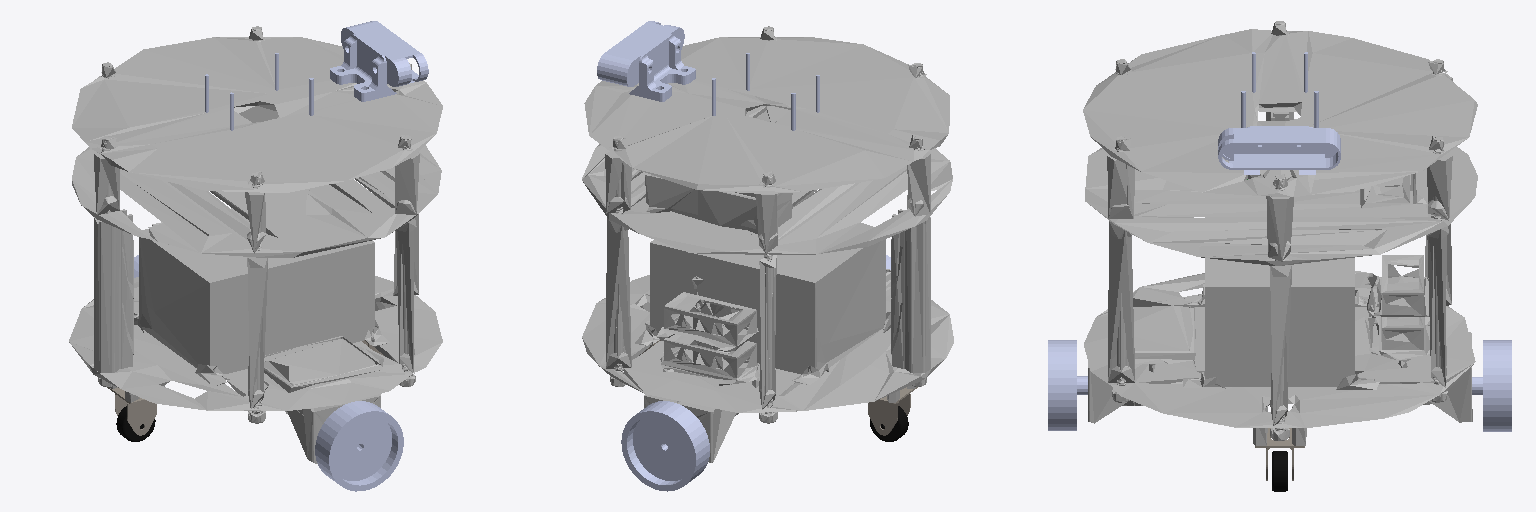
URDF robot description (amr_urdf_v3):
<!--Make simple geometric shapes instead of meshes in the collision segments.-->
<robot
  name="amr_urdf_v3">
  <link
    name="base_link">
    <inertial>
      <origin
        xyz="-0.0010176740304066 -0.00160349371590989 0.0789280634320502"
        rpy="0 0 0" />
      <mass
        value="4.06425207718803" />
      <inertia
        ixx="0.011888264404141"
        ixy="2.19115724720298E-05"
        ixz="4.36799830555761E-06"
        iyy="0.0130181756354306"
        iyz="-5.43500412982131E-07"
        izz="0.018709872116092" />
    </inertial>
    <visual>
      <origin
        xyz="0 0 0"
        rpy="0 0 0" />
      <geometry>
        <mesh
          filename="package://amr_urdf_v3/meshes/base_link.STL" />
      </geometry>
      <material
        name="">
        <color
          rgba="0.752941176470588 0.752941176470588 0.752941176470588 1" />
      </material>
    </visual>
    
    <collision>
      <origin
        xyz="0 0 0"
        rpy="0 0 0" />
      <geometry>
        <mesh
          filename="package://amr_urdf_v3/meshes/base_link.STL" />
      </geometry>
    </collision>
  </link>
  
  <!--
  <joint
    name="camera_joint"
    type="fixed">
    <origin
      xyz="0.1335 -0.00020556 0.2257"
      rpy="0 0 0" />
    <parent
      link="base_link" />
    <child
      link="camera_link" />
    <axis
      xyz="0 0 0" />
  </joint>
  -->
  
  
  <link
    name="right_motor_link">
    <inertial>
      <origin
        xyz="0.00798642968233698 -1.53544465665456E-18 0"
        rpy="0 0 0" />
      <mass
        value="0.0365559400762103" />
      <inertia
        ixx="3.01327681839806E-05"
        ixy="-8.20240559215681E-21"
        ixz="-5.35914288737187E-21"
        iyy="1.63979555484106E-05"
        iyz="6.00196961851436E-21"
        izz="1.63979555484106E-05" />
    </inertial>
    <visual>
      <origin
        xyz="0 0 0"
        rpy="0 0 0" />
      <geometry>
        <mesh
          filename="package://amr_urdf_v3/meshes/right_motor_link.STL" />
      </geometry>
      <material
        name="">
        <color
          rgba="0.792156862745098 0.819607843137255 0.933333333333333 1" />
      </material>
    </visual>
    <collision>
      <origin
        xyz="0 0 0"
        rpy="0 0 0" />
      <geometry>
        <mesh
          filename="package://amr_urdf_v3/meshes/right_motor_link.STL" />
      </geometry>
    </collision>
  </link>
  <joint
    name="right_motor_joint"
    type="continuous">
    <origin
      xyz="0 -0.15773 -0.0299999999999993"
      rpy="0 0 -1.57079632679489" />
    <parent
      link="base_link" />
    <child
      link="right_motor_link" />
    <axis
      xyz="-1 0 0" />
    <limit
      effort="300"
      velocity="300" />
  </joint>
  <link
    name="left_motor_link">
    <inertial>
      <origin
        xyz="0.00798642968233701 9.04521983301436E-13 -1.17392207066302E-13"
        rpy="0 0 0" />
      <mass
        value="0.0365559400762103" />
      <inertia
        ixx="3.01327681839806E-05"
        ixy="8.04028215445792E-22"
        ixz="1.87589665538517E-21"
        iyy="1.63979555484106E-05"
        iyz="9.47686957878753E-21"
        izz="1.63979555484106E-05" />
    </inertial>
    <visual>
      <origin
        xyz="0 0 0"
        rpy="0 0 0" />
      <geometry>
        <mesh
          filename="package://amr_urdf_v3/meshes/left_motor_link.STL" />
      </geometry>
      <material
        name="">
        <color
          rgba="0.792156862745098 0.819607843137255 0.933333333333333 1" />
      </material>
    </visual>
    <collision>
      <origin
        xyz="0 0 0"
        rpy="0 0 0" />
      <geometry>
        <mesh
          filename="package://amr_urdf_v3/meshes/left_motor_link.STL" />
      </geometry>
    </collision>
  </link>
  <joint
    name="left_motor_joint"
    type="continuous">
    <origin
      xyz="0 0.157729999998498 -0.0300000000003936"
      rpy="0 0 1.5707963267949" />
    <parent
      link="base_link" />
    <child
      link="left_motor_link" />
    <axis
      xyz="-1 0 0" />
    <limit
      effort="300"
      velocity="300" />
  </joint>


<gazebo>
  <plugin name="diff_drive" filename="libgazebo_ros_diff_drive.so">
    <ros>
      <namespace>/demo</namespace>
    </ros>

    <left_joint>left_motor_joint</left_joint>
    <right_joint>right_motor_joint</right_joint>

    <wheel_separation>0.35</wheel_separation> 
    <wheel_diameter>0.12</wheel_diameter>

    <max_wheel_torque>20</max_wheel_torque>
    <max_wheel_acceleration>1.0</max_wheel_acceleration>

    <publish_odom>true</publish_odom>
    <publish_odom_tf>true</publish_odom_tf> 
    <publish_wheel_tf>true</publish_wheel_tf>

    <odometry_frame>odom</odometry_frame>
    <robot_base_frame>base_link</robot_base_frame>
  </plugin>
</gazebo>




  <link
    name="back_caster_swivel_link">
    <inertial>
      <origin
        xyz="1.38777878078145E-17 2.42739208054735E-17 -0.00859163496952492"
        rpy="0 0 0" />
      <mass
        value="0.0342071620853004" />
      <inertia
        ixx="5.59165765821269E-06"
        ixy="5.99062099685569E-14"
        ixz="2.42813785033998E-21"
        iyy="4.62417593549193E-06"
        iyz="1.20669683067244E-20"
        izz="6.14879674609405E-06" />
    </inertial>
    <visual>
      <origin
        xyz="0 0 0"
        rpy="0 0 0" />
      <geometry>
        <mesh
          filename="package://amr_urdf_v3/meshes/back_caster_swivel_link.STL" />
      </geometry>
      <material
        name="">
        <color
          rgba="0.647058823529412 0.619607843137255 0.588235294117647 1" />
      </material>
    </visual>
    <collision>
      <origin
        xyz="0 0 0"
        rpy="0 0 0" />
      <geometry>
        <mesh
          filename="package://amr_urdf_v3/meshes/back_caster_swivel_link.STL" />
      </geometry>
    </collision>
  </link>
  <joint
    name="back_caster_swivel_joint"
    type="continuous">
    <origin
      xyz="-0.113 0 -0.02125"
      rpy="0 0 0" />
    <parent
      link="base_link" />
    <child
      link="back_caster_swivel_link" />
    <axis
      xyz="0 0 1" />
  </joint>
  <link
    name="back_caster_wheel_link">
    <inertial>
      <origin
        xyz="-1.38777878078145E-17 -1.02104301768038E-18 0"
        rpy="0 0 0" />
      <mass
        value="0.00910029124350843" />
      <inertia
        ixx="6.69349690057285E-07"
        ixy="-3.53100216598249E-21"
        ixz="1.25313985392662E-23"
        iyy="1.10476081341001E-06"
        iyz="1.70394260036174E-22"
        izz="6.69349690057285E-07" />
    </inertial>
    <visual>
      <origin
        xyz="0 0 0"
        rpy="0 0 0" />
      <geometry>
        <mesh
          filename="package://amr_urdf_v3/meshes/back_caster_wheel_link.STL" />
      </geometry>
      <material
        name="">
        <color
          rgba="0.101960784313725 0.101960784313725 0.101960784313725 1" />
      </material>
    </visual>
    <collision>
      <origin
        xyz="0 0 0"
        rpy="0 0 0" />
      <geometry>
        <mesh
          filename="package://amr_urdf_v3/meshes/back_caster_wheel_link.STL" />
      </geometry>
    </collision>
  </link>
  <joint
    name="back_caster_wheel_joint"
    type="continuous">
    <origin
      xyz="0 0 -0.02825"
      rpy="0 0 0" />
    <parent
      link="back_caster_swivel_link" />
    <child
      link="back_caster_wheel_link" />
    <axis
      xyz="0 -1 0" />
  </joint>
  <link
    name="front_caster_swivel_link">
    <inertial>
      <origin
        xyz="-1.38777878078145E-17 -1.11242347561298E-17 -0.00859163496952491"
        rpy="0 0 0" />
      <mass
        value="0.0342071620853004" />
      <inertia
        ixx="5.59165765821268E-06"
        ixy="5.99061993031957E-14"
        ixz="-1.9198369614391E-21"
        iyy="4.62417593549192E-06"
        iyz="-1.1528313380055E-20"
        izz="6.14879674609405E-06" />
    </inertial>
    <visual>
      <origin
        xyz="0 0 0"
        rpy="0 0 0" />
      <geometry>
        <mesh
          filename="package://amr_urdf_v3/meshes/front_caster_swivel_link.STL" />
      </geometry>
      <material
        name="">
        <color
          rgba="0.647058823529412 0.619607843137255 0.588235294117647 1" />
      </material>
    </visual>
    <collision>
      <origin
        xyz="0 0 0"
        rpy="0 0 0" />
      <geometry>
        <mesh
          filename="package://amr_urdf_v3/meshes/front_caster_swivel_link.STL" />
      </geometry>
    </collision>
  </link>
  <joint
    name="front_caster_swivel_joint"
    type="continuous">
    <origin
      xyz="0.113 0 -0.02125"
      rpy="0 0 0" />
    <parent
      link="base_link" />
    <child
      link="front_caster_swivel_link" />
    <axis
      xyz="0 0 1" />
  </joint>
  <link
    name="front_caster_wheel_link">
    <inertial>
      <origin
        xyz="0 -9.12589751828138E-20 0"
        rpy="0 0 0" />
      <mass
        value="0.00910029124350843" />
      <inertia
        ixx="6.69349690057285E-07"
        ixy="3.95110387068532E-22"
        ixz="9.85766645615961E-25"
        iyy="1.10476081341001E-06"
        iyz="1.68736474715625E-22"
        izz="6.69349690057285E-07" />
    </inertial>
    <visual>
      <origin
        xyz="0 0 0"
        rpy="0 0 0" />
      <geometry>
        <mesh
          filename="package://amr_urdf_v3/meshes/front_caster_wheel_link.STL" />
      </geometry>
      <material
        name="">
        <color
          rgba="0.101960784313725 0.101960784313725 0.101960784313725 1" />
      </material>
    </visual>
    <collision>
      <origin
        xyz="0 0 0"
        rpy="0 0 0" />
      <geometry>
        <mesh
          filename="package://amr_urdf_v3/meshes/front_caster_wheel_link.STL" />
      </geometry>
    </collision>
  </link>
  <joint
    name="front_caster_wheel_joint"
    type="continuous">
    <origin
      xyz="0 0 -0.02825"
      rpy="0 0 0" />
    <parent
      link="front_caster_swivel_link" />
    <child
      link="front_caster_wheel_link" />
    <axis
      xyz="0 -1 0" />
  </joint>


  <link
    name="imu_link">
    <inertial>
      <origin
        xyz="8.83832534712359E-19 -1.68731665717814E-18 -0.00102130965190103"
        rpy="0 0 0" />
      <mass
        value="0.00514746084847653" />
      <inertia
        ixx="7.93474008155527E-07"
        ixy="6.139231108792E-23"
        ixz="-1.51428536771307E-23"
        iyy="1.00625209716698E-06"
        iyz="-6.83596985419307E-24"
        izz="1.78297175236149E-06" />
    </inertial>
    <visual>
      <origin
        xyz="0 0 0"
        rpy="0 0 0" />
      <geometry>
        <mesh
          filename="package://amr_urdf_v3/meshes/imu_link.STL" />
      </geometry>
      <material
        name="">
        <color
          rgba="0.286274509803922 0.662745098039216 0.329411764705882 1" />
      </material>
    </visual>
    <collision>
      <origin
        xyz="0 0 0"
        rpy="0 0 0" />
      <geometry>
        <mesh
          filename="package://amr_urdf_v3/meshes/imu_link.STL" />
      </geometry>
    </collision>
  </link>

  <joint
    name="imu_joint"
    type="fixed">
    <origin
      xyz="0 0 0.148"
      rpy="0 0 0" />
    <parent
      link="base_link" />
    <child
      link="imu_link" />
    <axis
      xyz="0 0 0" />
  </joint>


 <gazebo reference="imu_link">
  <sensor name="imu_sensor" type="imu">
   <plugin filename="libgazebo_ros_imu_sensor.so" name="imu_plugin">
      <ros>
        <namespace>/demo</namespace>
        <remapping>~/out:=imu</remapping>
      </ros>
      <initial_orientation_as_reference>false</initial_orientation_as_reference>
    </plugin>
    <always_on>true</always_on>
    <update_rate>100</update_rate>
    <visualize>true</visualize>
    <imu>
      <angular_velocity>
        <x>
          <noise type="gaussian">
            <mean>0.0</mean>
            <stddev>2e-4</stddev>
            <bias_mean>0.0000075</bias_mean>
            <bias_stddev>0.0000008</bias_stddev>
          </noise>
        </x>
        <y>
          <noise type="gaussian">
            <mean>0.0</mean>
            <stddev>2e-4</stddev>
            <bias_mean>0.0000075</bias_mean>
            <bias_stddev>0.0000008</bias_stddev>
          </noise>
        </y>
        <z>
          <noise type="gaussian">
            <mean>0.0</mean>
            <stddev>2e-4</stddev>
            <bias_mean>0.0000075</bias_mean>
            <bias_stddev>0.0000008</bias_stddev>
          </noise>
        </z>
      </angular_velocity>
      <linear_acceleration>
        <x>
          <noise type="gaussian">
            <mean>0.0</mean>
            <stddev>1.7e-2</stddev>
            <bias_mean>0.1</bias_mean>
            <bias_stddev>0.001</bias_stddev>
          </noise>
        </x>
        <y>
          <noise type="gaussian">
            <mean>0.0</mean>
            <stddev>1.7e-2</stddev>
            <bias_mean>0.1</bias_mean>
            <bias_stddev>0.001</bias_stddev>
          </noise>
        </y>
        <z>
          <noise type="gaussian">
            <mean>0.0</mean>
            <stddev>1.7e-2</stddev>
            <bias_mean>0.1</bias_mean>
            <bias_stddev>0.001</bias_stddev>
          </noise>
        </z>
      </linear_acceleration>
    </imu>
  </sensor>
</gazebo>





  <link
    name="lidar_link">
    <inertial>
      <origin
        xyz="-0.0119599422907501 0.000420457853612401 -0.0146806721706361"
        rpy="0 0 0" />
      <mass
        value="0.0729132747388752" />
      <inertia
        ixx="1.81540410268974E-05"
        ixy="-3.13526570959607E-07"
        ixz="3.25184596662622E-07"
        iyy="2.39750540545773E-05"
        iyz="1.07178388102884E-08"
        izz="3.9435616182922E-05" />
    </inertial>
    <visual>
      <origin
        xyz="0 0 0"
        rpy="0 0 0" />
      <geometry>
        <mesh
          filename="package://amr_urdf_v3/meshes/lidar_link.STL" />
      </geometry>
      <material
        name="">
        <color
          rgba="0.792156862745098 0.819607843137255 0.933333333333333 1" />
      </material>
    </visual>
    <collision>
      <origin
        xyz="0 0 0"
        rpy="0 0 0" />
      <geometry>
        <mesh
          filename="package://amr_urdf_v3/meshes/lidar_link.STL" />
      </geometry>
    </collision>
  </link>

  <joint
    name="lidar_joint"
    type="fixed">
    <origin
      xyz="0.00699999999889178 0 0.25549999999896"
      rpy="0 0 0" />
    <parent
      link="base_link" />
    <child
      link="lidar_link" />
    <axis
      xyz="0 0 0" />
  </joint>


<gazebo reference="lidar_link">
  <sensor name="laser" type="ray">
    <pose>0 0 0 0 0 0</pose>  
    <!-- <always_on>true</always_on> -->
    <update_rate>20</update_rate>
    <visualize>true</visualize>
    <ray>
      <scan>
        <horizontal>
          <samples>720</samples>
          <resolution>1</resolution>
          <min_angle>-3.1415926</min_angle>
          <max_angle>3.1415926</max_angle>
        </horizontal> 
      </scan>
      <range>
        <min>0.1</min>
        <max>10.0</max>
        <resolution>0.01</resolution>  
      </range>   
     <!-- <noise>   
        <type>gaussian</type>  
        <mean>0.0</mean>
        <stddev>0.01</stddev>
      </noise> -->
    </ray> 
    <plugin name="gazebo_ros_laser_controller" filename="libgazebo_ros_ray_sensor.so">
      <ros>
        <!-- <namespace>/demo</namespace> --> 
        <remapping>~/out:=scan</remapping>
        <!-- <topicName>scan</topicName>  -->
      </ros> 
      <output_type>sensor_msgs/LaserScan</output_type>      
      <frame_name>lidar_link</frame_name>
    </plugin>   
  </sensor>
</gazebo> 
 






  <link
    name="camera_link">
    <inertial>
      <origin
        xyz="-0.0250710998831694 0.000537936695328088 -0.00614946362916749"
        rpy="0 0 0" />
      <mass
        value="0.0313336679699393" />
      <inertia
        ixx="2.27202820665302E-05"
        ixy="-1.32703422540569E-07"
        ixz="-2.86292130544785E-07"
        iyy="4.32636813211046E-06"
        iyz="-4.54549299258422E-09"
        izz="2.21282712614926E-05" />
    </inertial>
    <visual>
      <origin
        xyz="0 0 0"
        rpy="0 0 0" />
      <geometry>
        <mesh
          filename="package://amr_urdf_v3/meshes/camera_link.STL" />
      </geometry>
      <material
        name="">
        <color
          rgba="0.792156862745098 0.819607843137255 0.933333333333333 1" />
      </material>
    </visual>
    <collision>
      <origin
        xyz="0 0 0"
        rpy="0 0 0" />
      <geometry>
        <mesh
          filename="package://amr_urdf_v3/meshes/camera_link.STL" />
      </geometry>
    </collision>
  </link>
  <joint
    name="camera_joint"
    type="fixed">
    <origin
      xyz="0.1335 -0.00020556 0.2257"
      rpy="0 0 0" />
    <parent
      link="base_link" />
    <child
      link="camera_link" />
    <axis
      xyz="0 0 0" />
  </joint>
</robot>

--- Facts derived from the render (not from the file) ---
Views: 3 orthographic renders of the robot side by side, from view 1: azimuth 30°, elevation 25°; view 2: azimuth 150°, elevation 25°; view 3: azimuth 270°, elevation 25°.
Model amr_urdf_v3 with 10 links and 9 joints (6 continuous, 3 fixed), rooted at base_link, posed all joints at 0.
Visible links, largest first — view 1: base_link, right_motor_link, camera_link, back_caster_swivel_link, lidar_link; view 2: base_link, left_motor_link, camera_link, back_caster_swivel_link, lidar_link; view 3: base_link, camera_link, left_motor_link, right_motor_link, lidar_link, front_caster_wheel_link.
Link boxes in pixels (x1,y1,x2,y2): base_link: [69, 26, 442, 463]; right_motor_link: [315, 401, 403, 491]; camera_link: [330, 21, 428, 101]; back_caster_swivel_link: [107, 387, 156, 435]; lidar_link: [205, 53, 313, 130]; base_link: [582, 26, 953, 462]; left_motor_link: [621, 401, 709, 491]; camera_link: [597, 21, 695, 101]; back_caster_swivel_link: [868, 387, 917, 435]; lidar_link: [712, 53, 819, 130]; base_link: [1083, 21, 1477, 445]; camera_link: [1218, 126, 1340, 174]; left_motor_link: [1472, 340, 1511, 431]; right_motor_link: [1048, 340, 1087, 430]; lidar_link: [1241, 52, 1318, 127]; front_caster_wheel_link: [1272, 451, 1287, 491].
Bounding box of the posed robot: 0.3017 × 0.3554 × 0.3022 m (x, y, z).
Meshes: 10 distinct files referenced, 10 mesh visuals loaded (10 binary STL).
